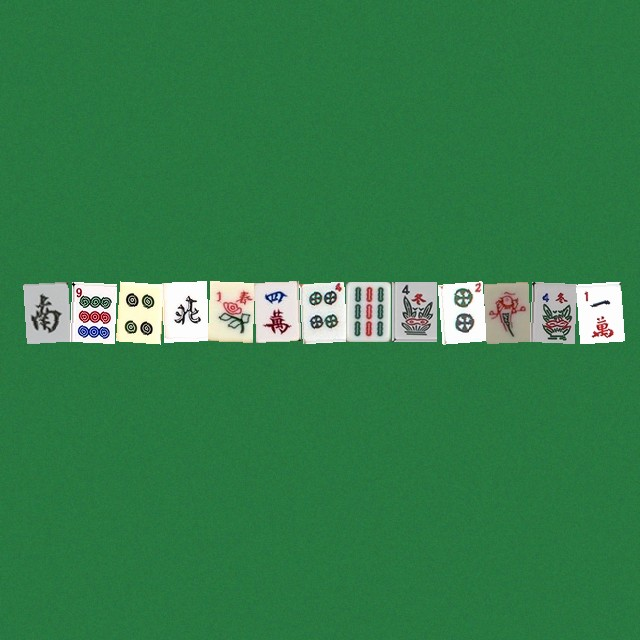tile: (23, 281, 68, 341), (69, 281, 114, 341), (115, 281, 160, 341), (161, 281, 206, 341), (207, 281, 252, 341), (253, 281, 298, 341), (299, 281, 344, 341), (345, 281, 390, 341), (391, 281, 436, 341), (437, 281, 482, 341), (483, 281, 528, 341), (529, 281, 574, 341), (575, 281, 620, 341)
